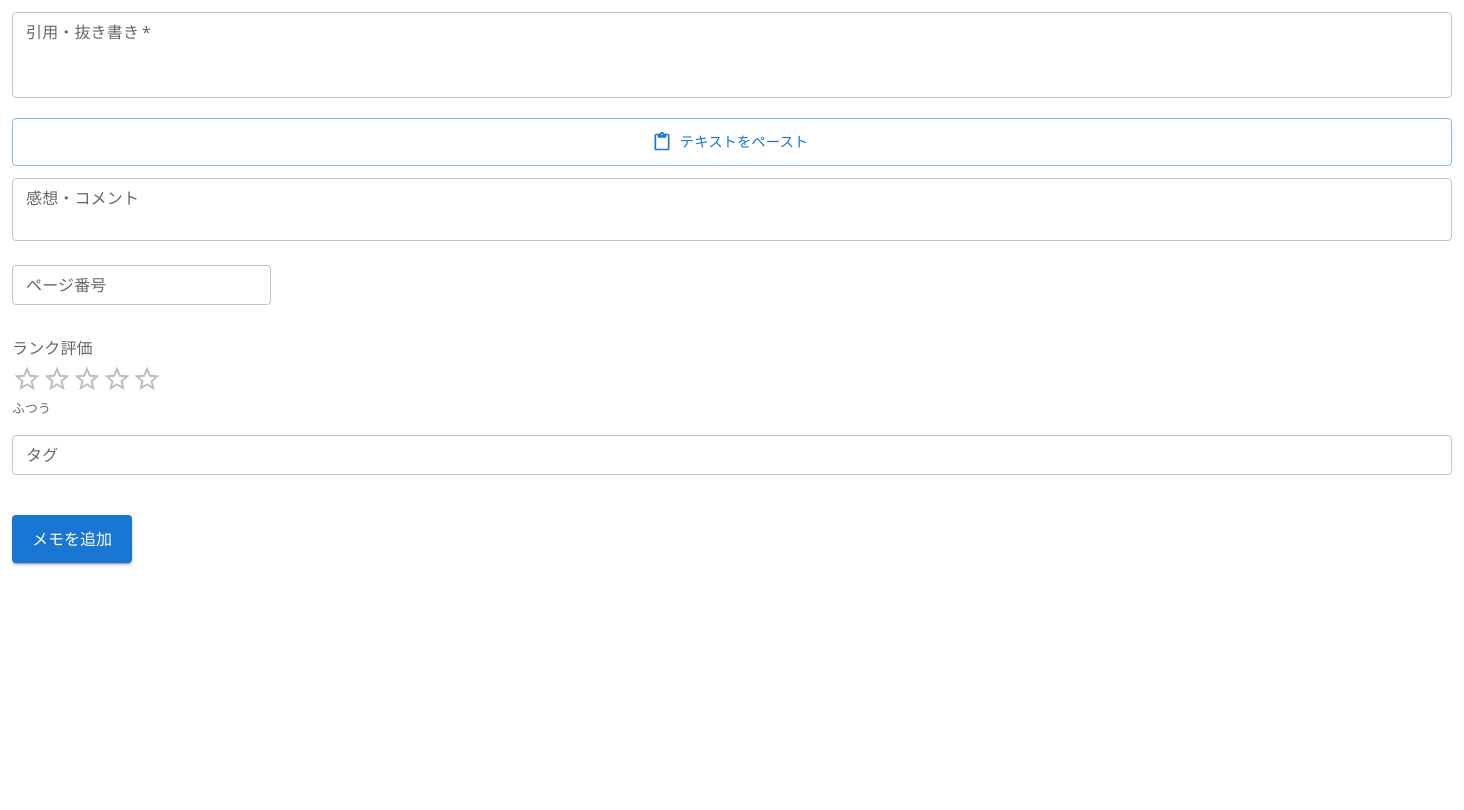
it: MemoAdd › shows rating description when rating is set
The width and height of the screenshot is (1464, 810).
Expected: the 1st radio button is shown, left=12, top=364, right=42, bottom=394
Click the 3rd radio button. click: click(87, 379)
box: left=72, top=364, right=102, bottom=394
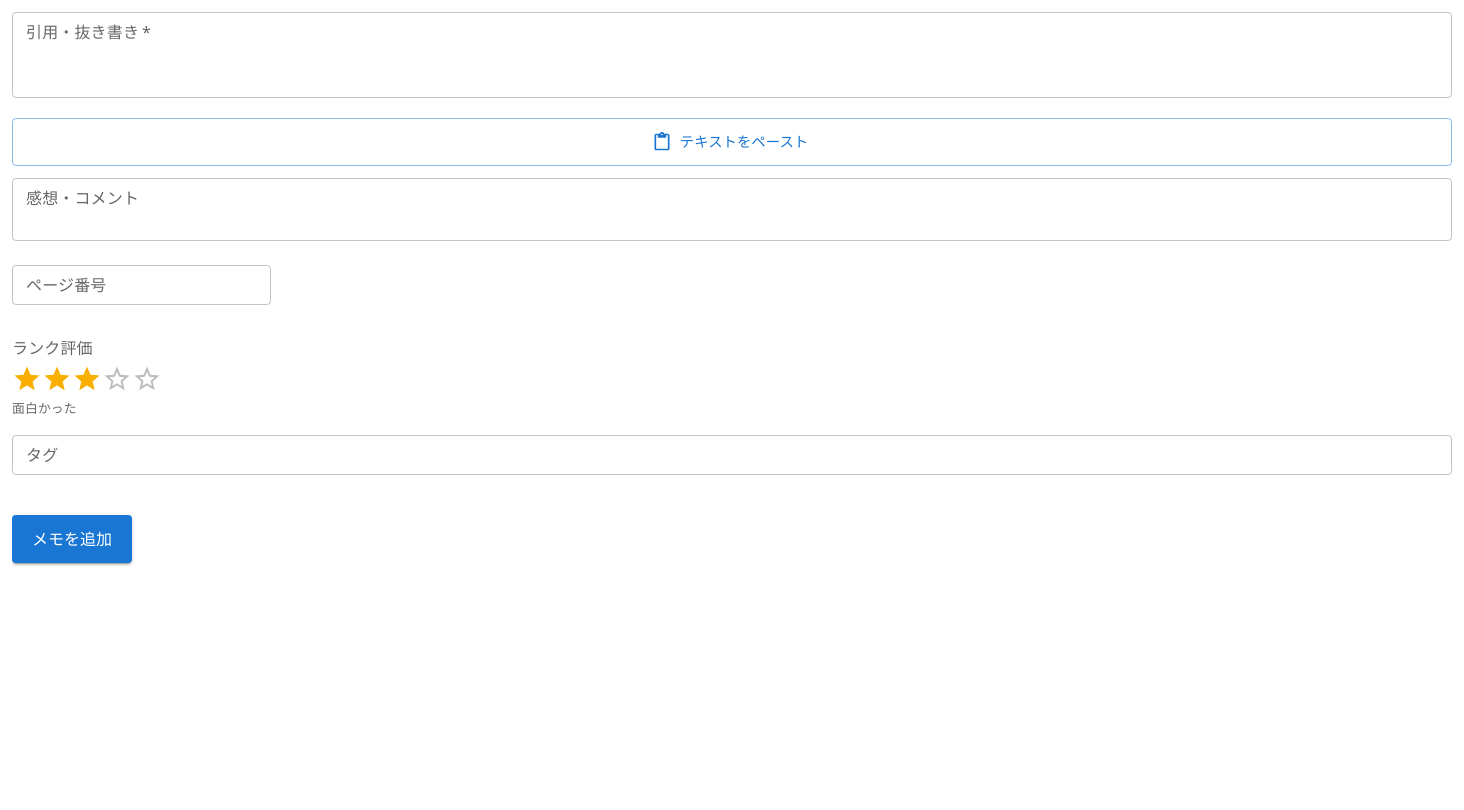
Result: the text with test id "memo-rating-description" reads "面白かった" at left=12, top=399, right=77, bottom=417
